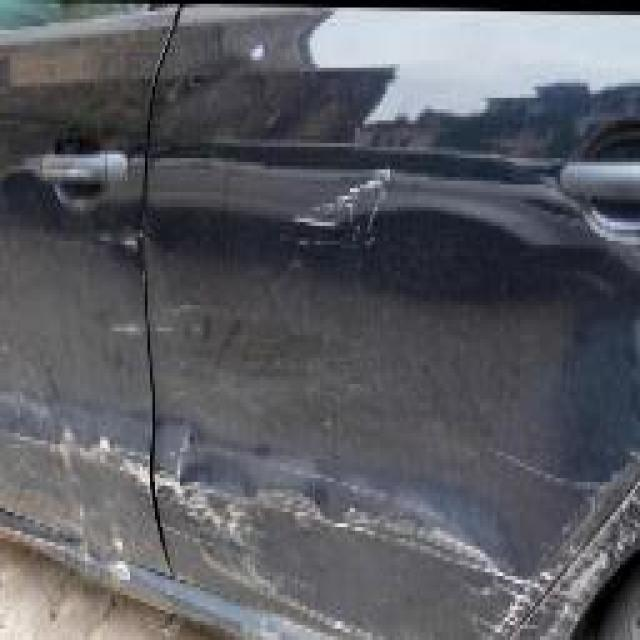Door: (150, 4, 640, 640), (2, 0, 150, 640)
